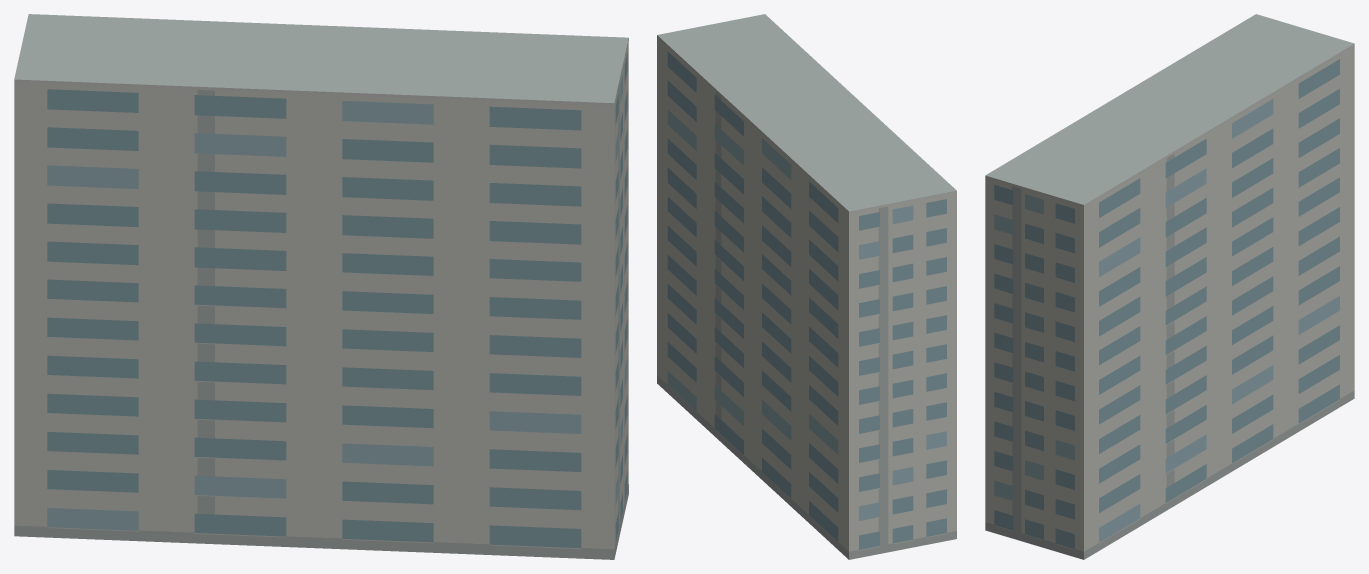
The model's file is residential-f7c7af21-81ec-4014-a081-98eff53247e3.glb.
The picture shows the model from 3 angles, left to right: view 1: azimuth 30°, elevation 25°; view 2: azimuth 150°, elevation 25°; view 3: azimuth 270°, elevation 25°; orthographic projection. The views are drawn at different scales.
Visible parts, largest first — view 1: residential-f7c7af21-81ec-4014-a081-98eff53247e3.tmp; view 2: residential-f7c7af21-81ec-4014-a081-98eff53247e3.tmp; view 3: residential-f7c7af21-81ec-4014-a081-98eff53247e3.tmp.
Boxes of the visible parts, left/top/right/bottom form: residential-f7c7af21-81ec-4014-a081-98eff53247e3.tmp: left=14, top=14, right=628, bottom=559; residential-f7c7af21-81ec-4014-a081-98eff53247e3.tmp: left=657, top=14, right=956, bottom=559; residential-f7c7af21-81ec-4014-a081-98eff53247e3.tmp: left=985, top=14, right=1354, bottom=559.
Bounding box in the file's own units: 40.41 × 35 × 33.04.
